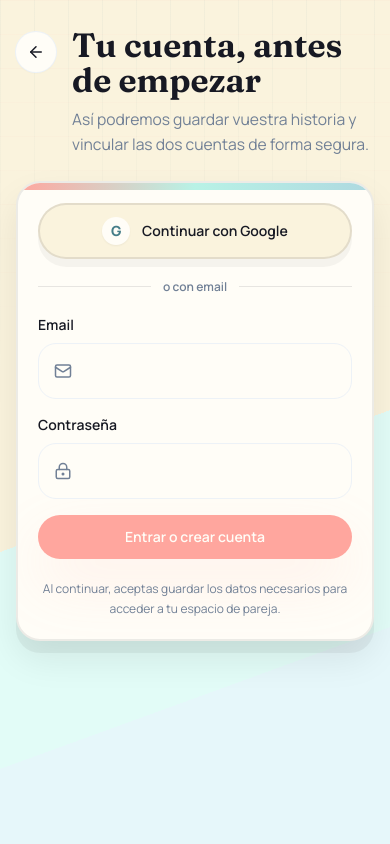
onboarding authentication flow › does not show the invitation code before authentication
Expected: the heading "Tu cuenta, antes de empezar" is shown, [72,28,374,98]
Expected: the field labelled "Código de invitación" is not shown
Click the button "G Continuar con Google" at (195, 231), box [38,203,352,259]
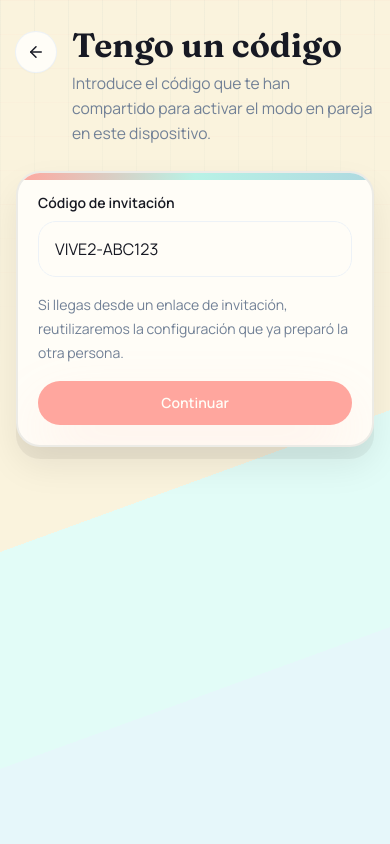
Expected: the field labelled "Código de invitación" holds "VIVE2-ABC123", [38,220,352,277]
